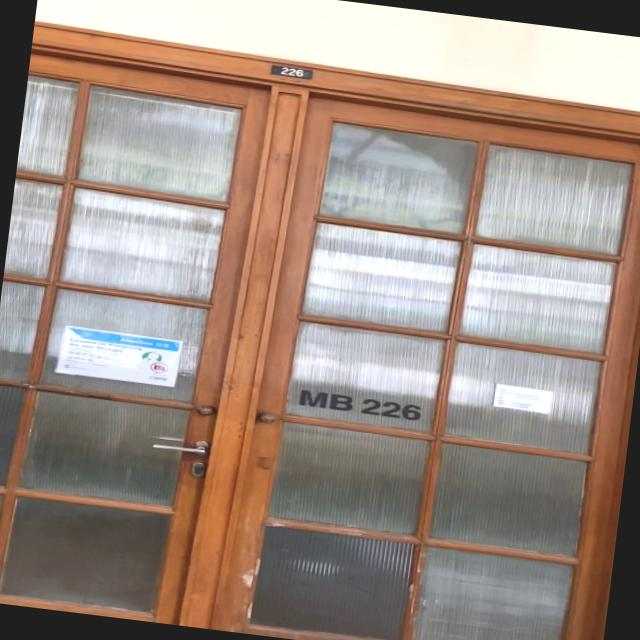room226: (268, 61, 316, 80)
room226Window: (296, 386, 428, 424)
